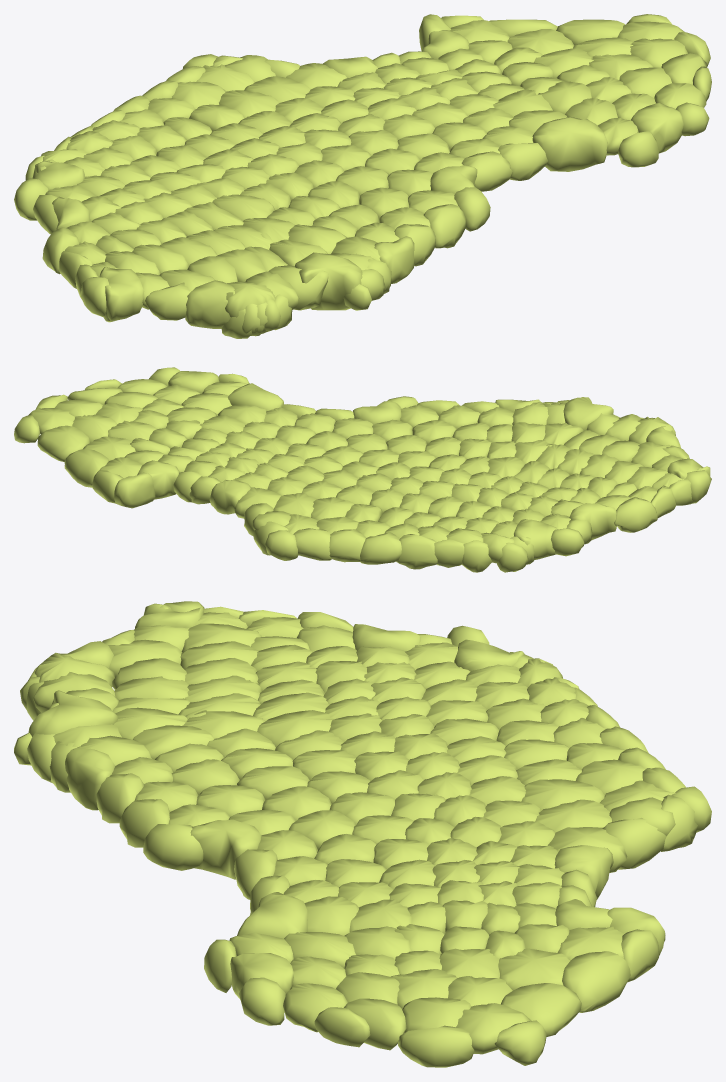
File: Islands2.006_fog.fbx
The picture shows the model from 3 angles, top to bottom: view 1: azimuth 30°, elevation 25°; view 2: azimuth 150°, elevation 25°; view 3: azimuth 270°, elevation 25°; orthographic projection. The views are drawn at different scales.
Visible parts, largest first — view 1: Island2.006_fog_cell.136, Island2.006_fog_cell.045, Island2.006_fog_cell.005, Island2.006_fog_cell.135, Island2.006_fog_cell.120, Island2.006_fog_cell.026, Island2.006_fog_cell.042, Island2.006_fog_cell.147, Island2.006_fog_cell.143, Island2.006_fog_cell.022, Island2.006_fog_cell.094, Island2.006_fog_cell.110 (+141 smaller); view 2: Island2.006_fog_cell.110, Island2.006_fog_cell.055, Island2.006_fog_cell.140, Island2.006_fog_cell.103, Island2.006_fog_cell.070, Island2.006_fog_cell.165, Island2.006_fog_cell.093, Island2.006_fog_cell.162, Island2.006_fog_cell.129, Island2.006_fog_cell.096, Island2.006_fog_cell.045, Island2.006_fog_cell.136 (+144 smaller); view 3: Island2.006_fog_cell.070, Island2.006_fog_cell.163, Island2.006_fog_cell.110, Island2.006_fog_cell.128, Island2.006_fog_cell.045, Island2.006_fog_cell.136, Island2.006_fog_cell.180, Island2.006_fog_cell.007, Island2.006_fog_cell.094, Island2.006_fog_cell.068, Island2.006_fog_cell.176, Island2.006_fog_cell.046 (+151 smaller).
Part boxes in pixels (x1=…): Island2.006_fog_cell.136: x1=532, y1=117, x2=607, y2=171; Island2.006_fog_cell.045: x1=294, y1=252, x2=362, y2=310; Island2.006_fog_cell.005: x1=185, y1=280, x2=234, y2=328; Island2.006_fog_cell.135: x1=99, y1=267, x2=144, y2=321; Island2.006_fog_cell.120: x1=631, y1=102, x2=683, y2=153; Island2.006_fog_cell.026: x1=423, y1=204, x2=465, y2=248; Island2.006_fog_cell.042: x1=498, y1=143, x2=547, y2=180; Island2.006_fog_cell.147: x1=461, y1=151, x2=512, y2=191; Island2.006_fog_cell.143: x1=268, y1=265, x2=328, y2=310; Island2.006_fog_cell.022: x1=145, y1=282, x2=190, y2=320; Island2.006_fog_cell.094: x1=374, y1=236, x2=414, y2=283; Island2.006_fog_cell.110: x1=556, y1=19, x2=624, y2=45; Island2.006_fog_cell.110: x1=37, y1=425, x2=90, y2=461; Island2.006_fog_cell.055: x1=114, y1=472, x2=155, y2=508; Island2.006_fog_cell.140: x1=614, y1=497, x2=657, y2=532; Island2.006_fog_cell.103: x1=396, y1=534, x2=437, y2=569; Island2.006_fog_cell.070: x1=64, y1=449, x2=108, y2=487; Island2.006_fog_cell.165: x1=360, y1=532, x2=401, y2=564; Island2.006_fog_cell.093: x1=514, y1=519, x2=556, y2=559; Island2.006_fog_cell.162: x1=569, y1=503, x2=616, y2=539; Island2.006_fog_cell.129: x1=329, y1=529, x2=366, y2=562; Island2.006_fog_cell.096: x1=293, y1=528, x2=331, y2=560; Island2.006_fog_cell.045: x1=563, y1=397, x2=613, y2=431; Island2.006_fog_cell.136: x1=228, y1=383, x2=283, y2=410; Island2.006_fog_cell.070: x1=562, y1=951, x2=630, y2=1012; Island2.006_fog_cell.163: x1=190, y1=819, x2=261, y2=879; Island2.006_fog_cell.110: x1=501, y1=983, x2=581, y2=1036; Island2.006_fog_cell.128: x1=398, y1=1025, x2=474, y2=1067; Island2.006_fog_cell.045: x1=28, y1=690, x2=117, y2=736; Island2.006_fog_cell.136: x1=237, y1=892, x2=307, y2=938; Island2.006_fog_cell.180: x1=143, y1=824, x2=203, y2=870; Island2.006_fog_cell.007: x1=498, y1=948, x2=569, y2=990; Island2.006_fog_cell.094: x1=65, y1=748, x2=115, y2=810; Island2.006_fog_cell.068: x1=456, y1=1003, x2=531, y2=1054; Island2.006_fog_cell.176: x1=344, y1=998, x2=406, y2=1050; Island2.006_fog_cell.046: x1=283, y1=983, x2=347, y2=1032.
Size of the model in its own units: 174 by 11.12 by 117.
